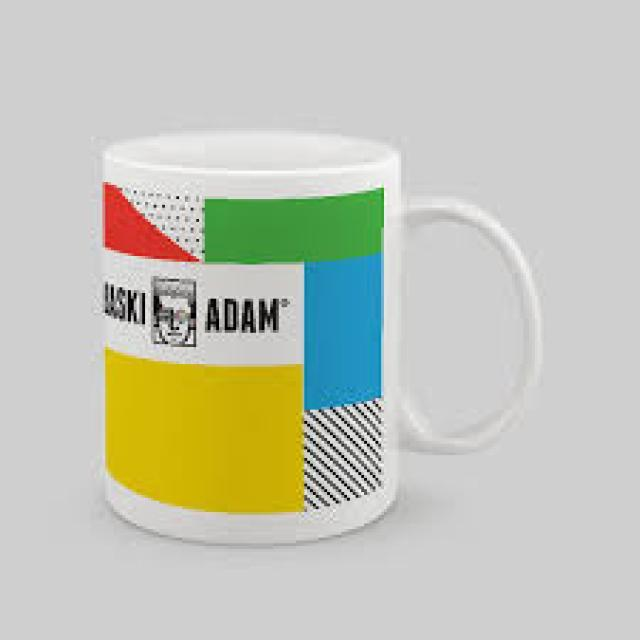taza: (103, 130, 543, 550)
